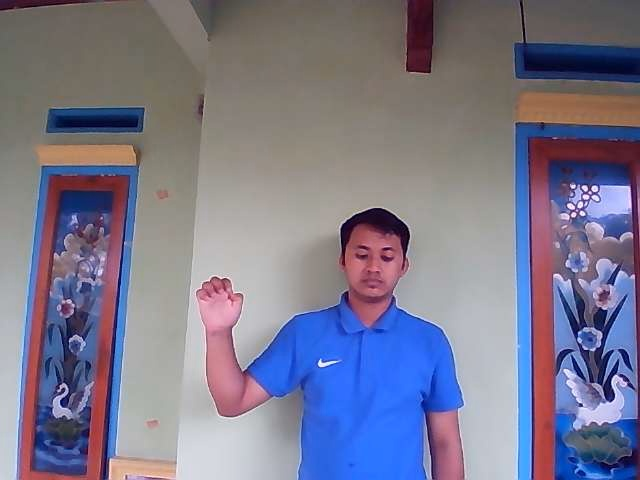E: (196, 276, 244, 333)
